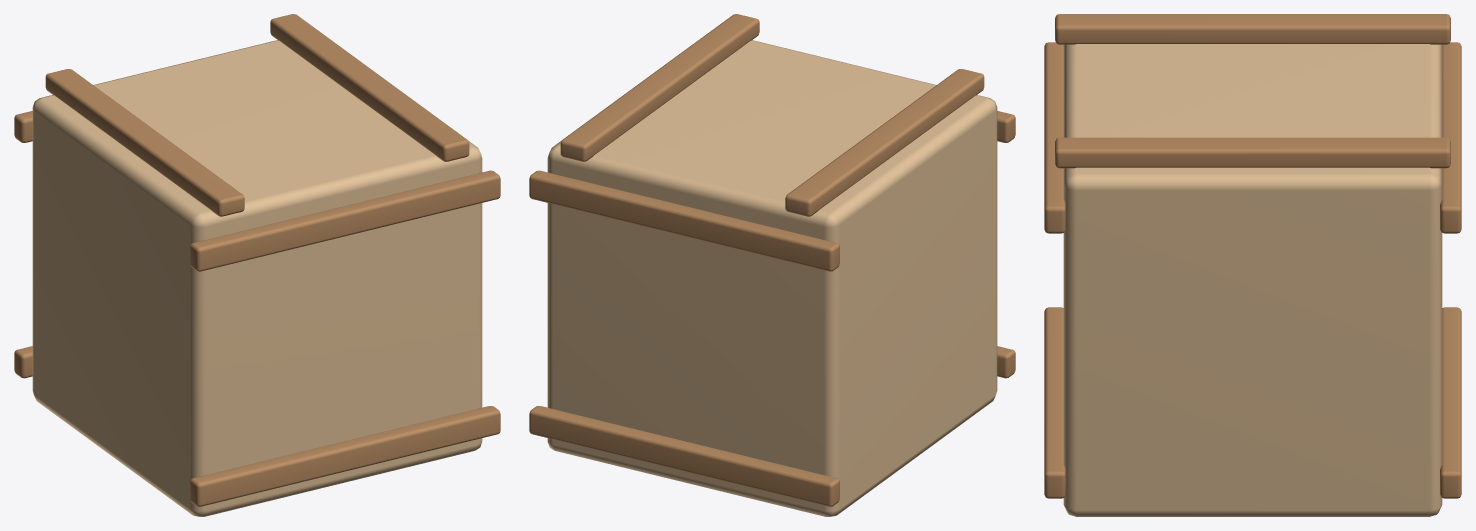
Rendered from crate.glb.
3 views of the same model, side by side, from view 1: azimuth 30°, elevation 25°; view 2: azimuth 150°, elevation 25°; view 3: azimuth 270°, elevation 25° (orthographic). The views are drawn at different scales.
Parts seen in each view (by area): view 1: V2_crate_batched; view 2: V2_crate_batched; view 3: V2_crate_batched.
Boxes of the visible parts, x1,y1,x2,y2 form: V2_crate_batched: (14,14,500,516); V2_crate_batched: (529,14,1015,516); V2_crate_batched: (1044,14,1461,516).
Bounding box in the file's own units: 0.46 × 0.4625 × 0.485.
